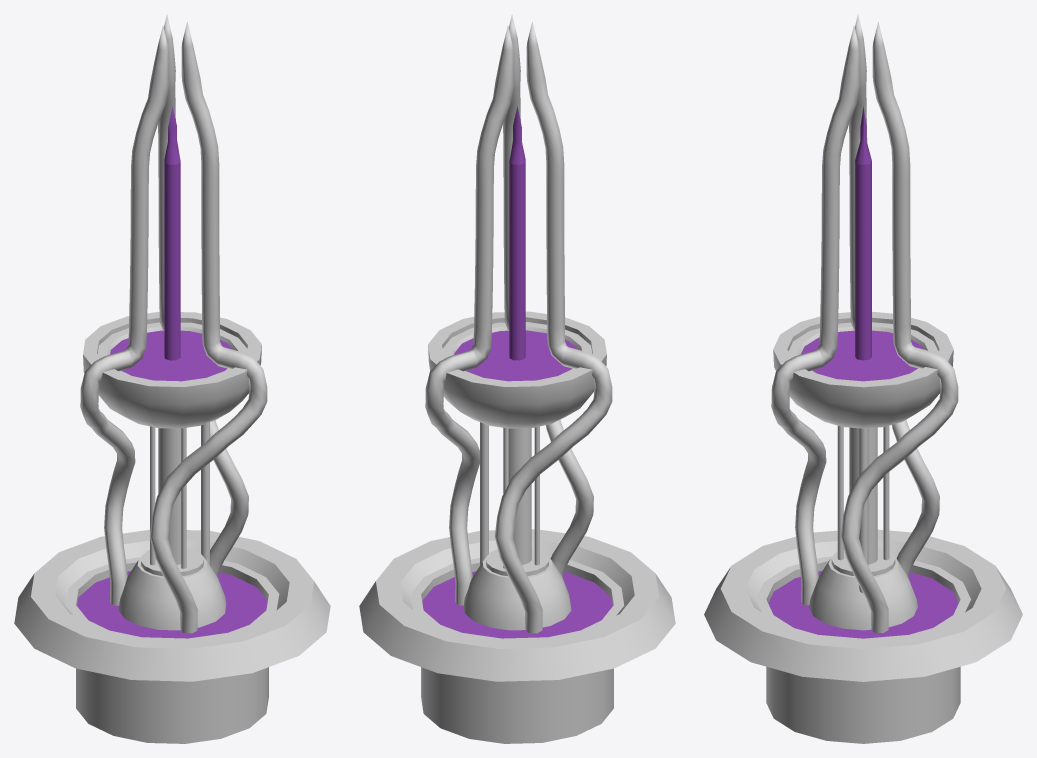
Rendered from ENV_EM_Savepoint_WB.fbx.
3 views of the same model, side by side, from view 1: azimuth 30°, elevation 25°; view 2: azimuth 150°, elevation 25°; view 3: azimuth 270°, elevation 25° (orthographic).
Parts seen in each view (by area): view 1: Cylinder, Cylinder.001, Cylinder.004, Cylinder.005, Cylinder.002, Cylinder.006, Cylinder.007; view 2: Cylinder, Cylinder.001, Cylinder.005, Cylinder.002, Cylinder.004, Cylinder.006, Cylinder.007; view 3: Cylinder, Cylinder.001, Cylinder.002, Cylinder.004, Cylinder.005, Cylinder.006, Cylinder.007.
Boxes of the visible parts, x1,y1,x2,y2 form: Cylinder: [14, 529, 330, 743]; Cylinder.001: [83, 106, 261, 630]; Cylinder.004: [149, 21, 267, 633]; Cylinder.005: [80, 25, 168, 605]; Cylinder.002: [158, 14, 248, 578]; Cylinder.006: [77, 571, 267, 638]; Cylinder.007: [110, 330, 232, 381]; Cylinder: [359, 529, 675, 743]; Cylinder.001: [428, 106, 606, 630]; Cylinder.005: [494, 21, 612, 633]; Cylinder.002: [425, 25, 513, 605]; Cylinder.004: [503, 14, 593, 578]; Cylinder.006: [422, 571, 612, 638]; Cylinder.007: [454, 330, 578, 381]; Cylinder: [704, 529, 1022, 743]; Cylinder.001: [773, 106, 953, 630]; Cylinder.002: [840, 21, 958, 632]; Cylinder.004: [771, 25, 859, 605]; Cylinder.005: [849, 14, 939, 579]; Cylinder.006: [768, 570, 958, 638]; Cylinder.007: [801, 330, 923, 381].
Bounding box in the file's own units: 78.4 × 185 × 78.4.
